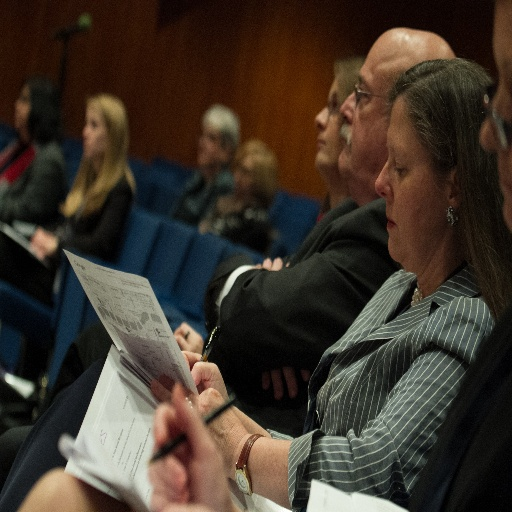hand: (151, 380, 247, 472), (260, 368, 311, 401), (191, 362, 231, 403), (170, 319, 206, 351), (30, 227, 55, 253), (253, 255, 290, 272), (180, 349, 204, 374)
